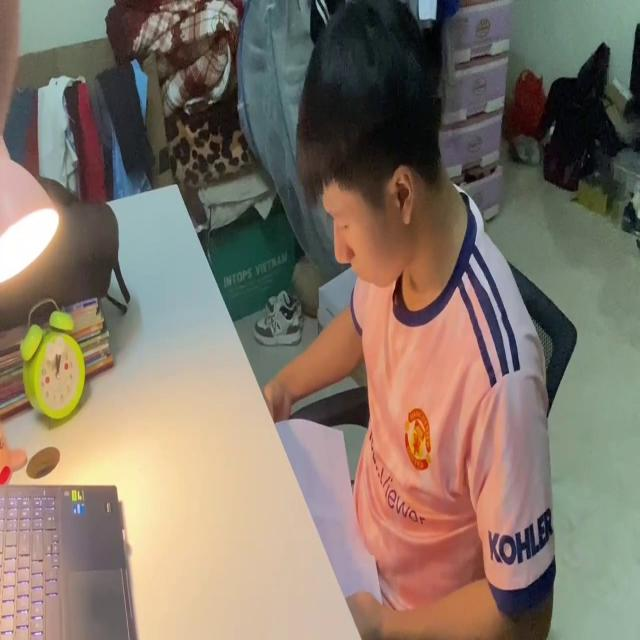book: (273, 416, 382, 621)
laptop: (0, 477, 138, 639)
student: (266, 0, 553, 640)
